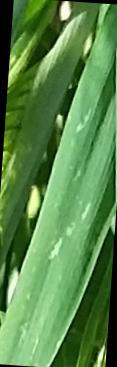Wheat: (0, 207, 83, 367), (43, 78, 116, 203)
